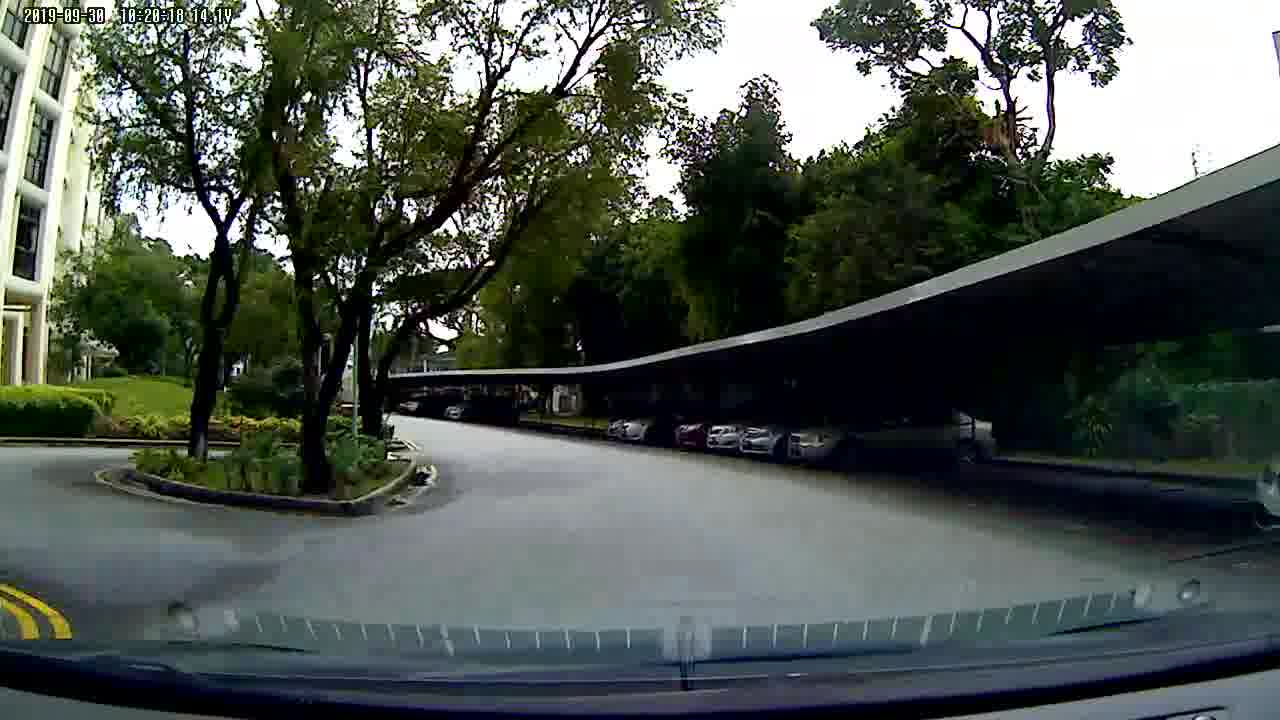car: (599, 411, 1000, 474)
